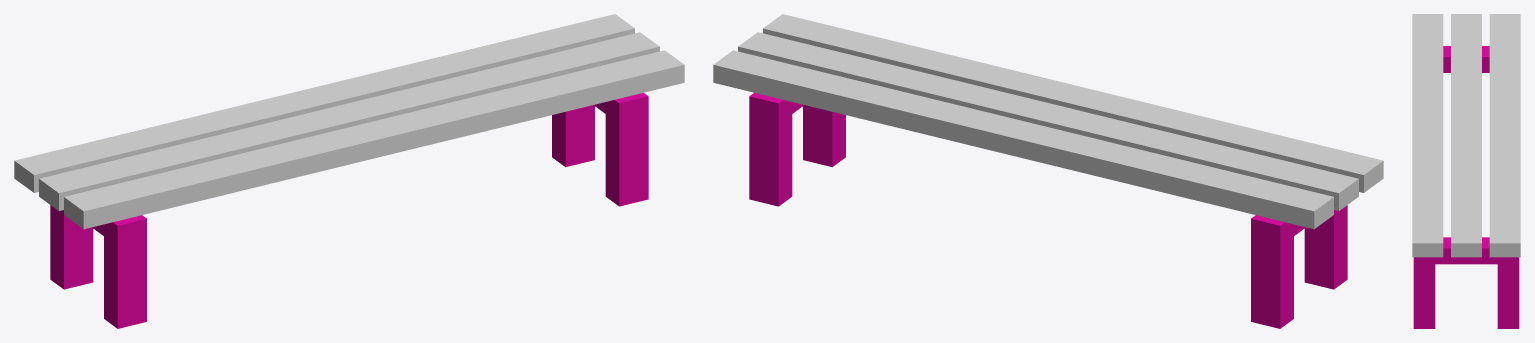
The model's file is bench.fbx.
3 renders of one model, left to right at view 1: azimuth 30°, elevation 25°; view 2: azimuth 150°, elevation 25°; view 3: azimuth 270°, elevation 25°, orthographic. The views are drawn at different scales.
Parts seen in each view (by area): view 1: bench; view 2: bench; view 3: bench.
Boxes of the visible parts, left/top/right/bottom form: bench: left=14, top=14, right=684, bottom=328; bench: left=713, top=14, right=1383, bottom=328; bench: left=1412, top=14, right=1520, bottom=328.
Size of the model in its own units: 3.5 by 0.7058 by 0.7.
